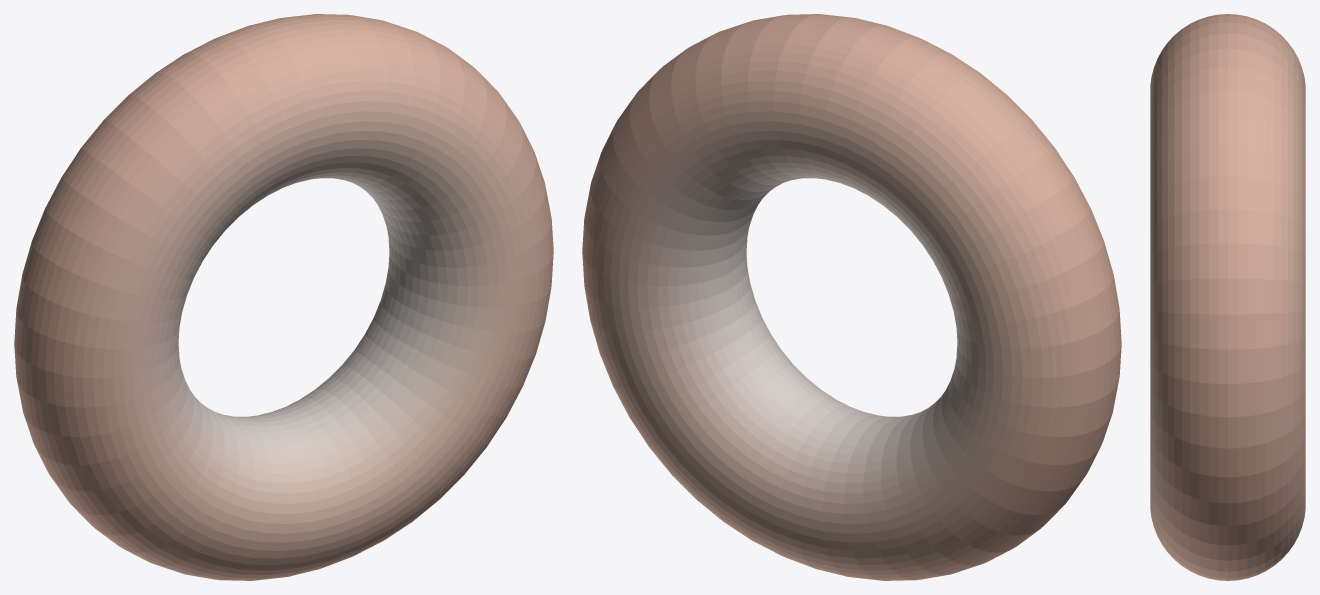
3 views of the same model, side by side, from view 1: azimuth 30°, elevation 25°; view 2: azimuth 150°, elevation 25°; view 3: azimuth 270°, elevation 25° (orthographic). The views are drawn at different scales.
Visible parts, largest first — view 1: world; view 2: world; view 3: world.
Part boxes in pixels (x1,y1,x2,y2): world: [14, 14, 553, 580]; world: [582, 14, 1121, 580]; world: [1150, 14, 1305, 580].
Size of the model in its own units: 26.67 by 26.61 by 7.32.
